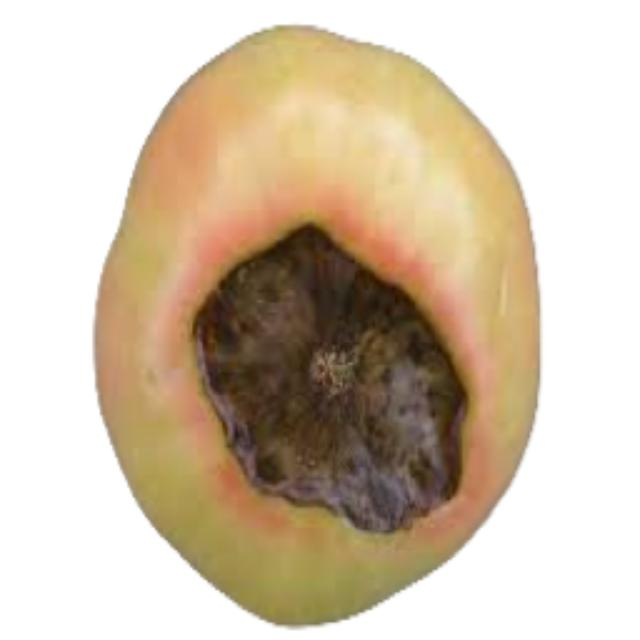defect: (84, 14, 551, 629)
